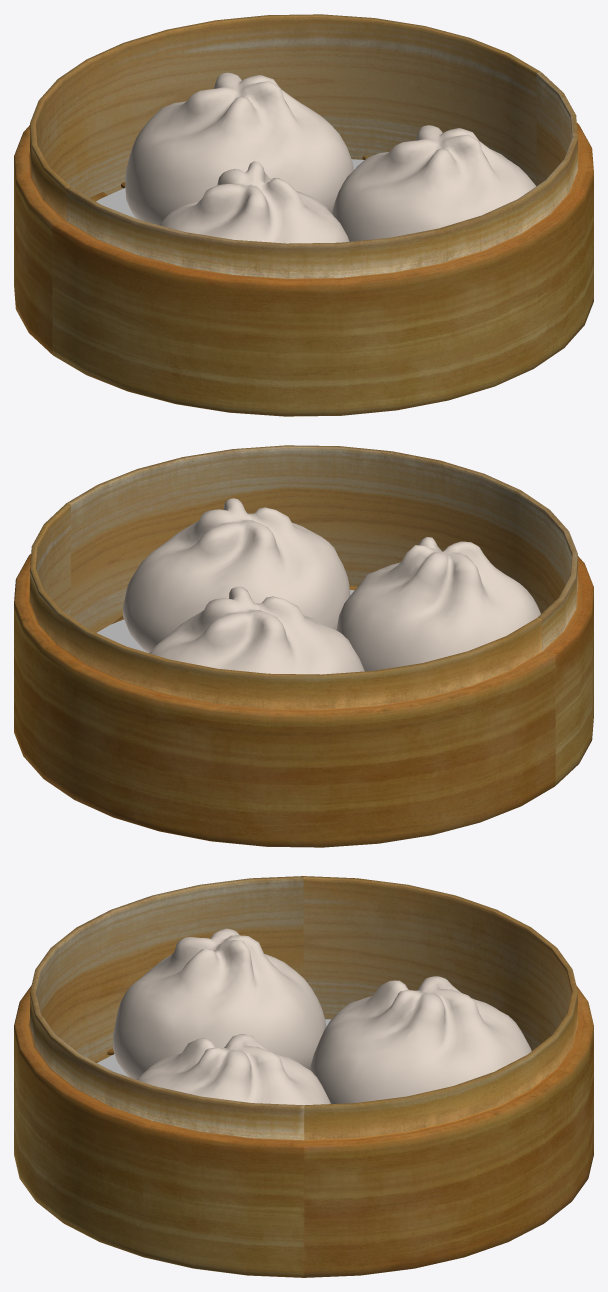
The model's file is yi_shao_bun.glb.
3 views of the same model, one above another, from view 1: azimuth 30°, elevation 25°; view 2: azimuth 150°, elevation 25°; view 3: azimuth 270°, elevation 25° (orthographic).
Visible parts, largest first — view 1: Object_3, Object_2; view 2: Object_3, Object_2; view 3: Object_3, Object_2.
Boxes of the visible parts, x1=… form: Object_3: x1=14, y1=14, x2=593, y2=416; Object_2: x1=96, y1=72, x2=535, y2=243; Object_3: x1=14, y1=445, x2=593, y2=847; Object_2: x1=97, y1=498, x2=540, y2=674; Object_3: x1=14, y1=876, x2=593, y2=1277; Object_2: x1=97, y1=928, x2=531, y2=1105.
Bounding box in the file's own units: 24 × 8.03 × 24.
Materials: 2 (2 with a texture image).
